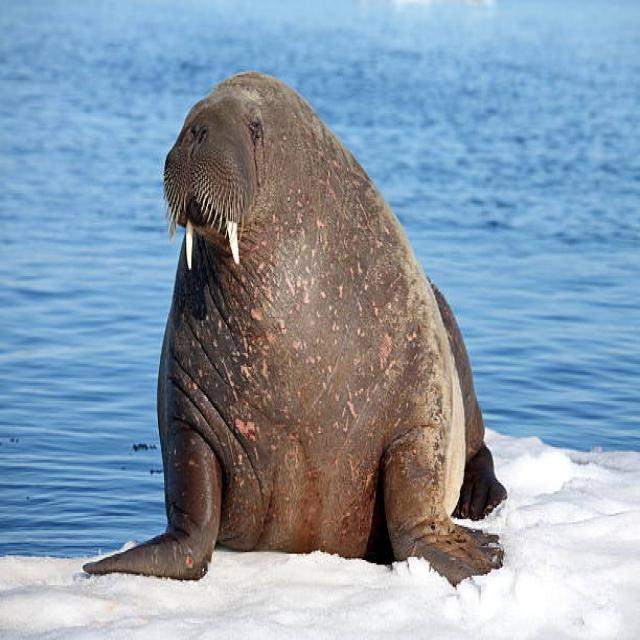walrus: (155, 49, 483, 562)
